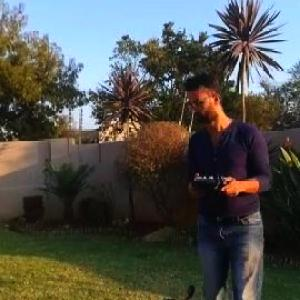follow: (180, 63, 274, 299)
